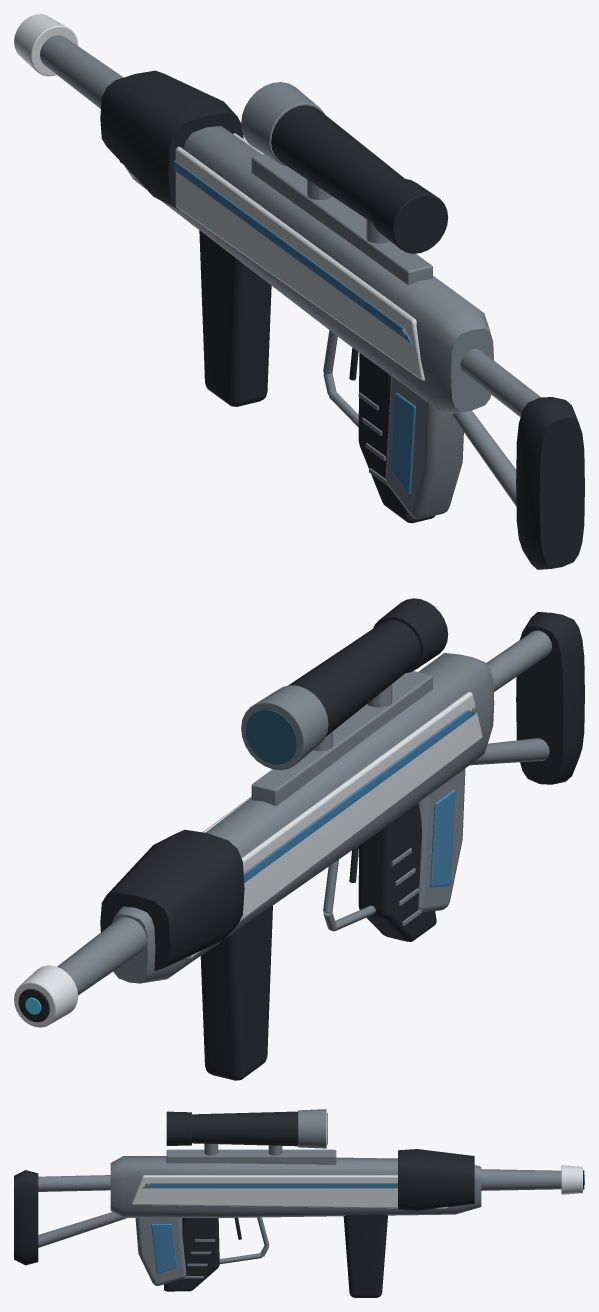
Rendered from blaster-d-mk4.glb.
3 views of the same model, one above another, from view 1: azimuth 30°, elevation 25°; view 2: azimuth 150°, elevation 25°; view 3: azimuth 270°, elevation 25° (orthographic). The views are drawn at different scales.
Parts seen in each view (by area): view 1: Pink War IV / lance; view 2: Pink War IV / lance; view 3: Pink War IV / lance.
Part boxes in pixels (box(x1,y1,x2,y2)): Pink War IV / lance: box(14, 14, 584, 569); Pink War IV / lance: box(14, 598, 584, 1080); Pink War IV / lance: box(14, 1109, 584, 1297).
Size of the model in its own units: 0.084 by 0.3159 by 0.891.
